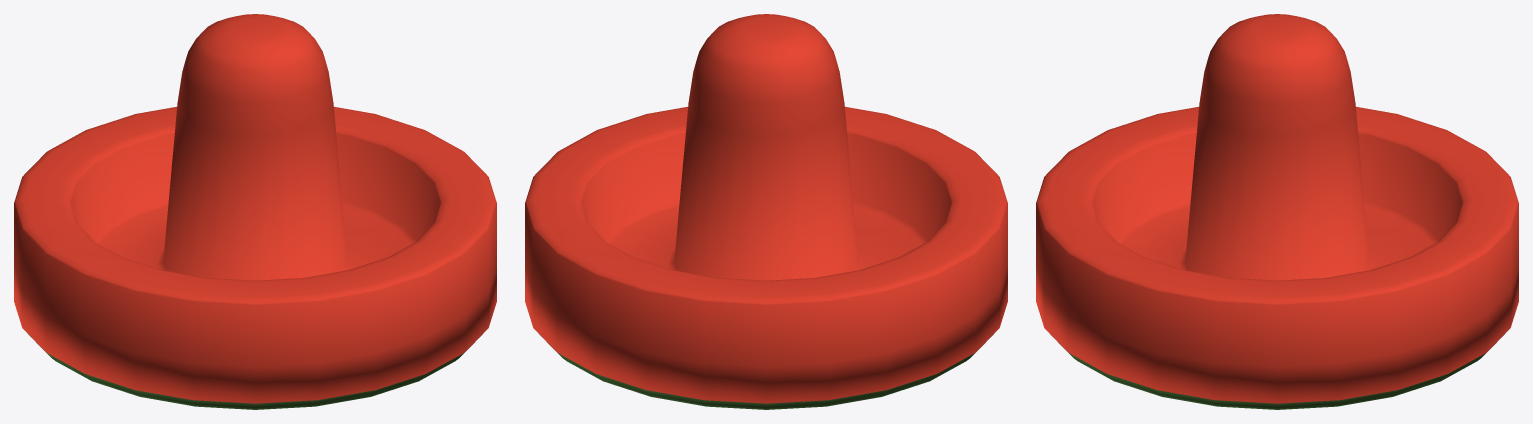
Rendered from Air Hockey Paddle.fbx.
The picture shows the model from 3 angles, left to right: view 1: azimuth 30°, elevation 25°; view 2: azimuth 150°, elevation 25°; view 3: azimuth 270°, elevation 25°; orthographic projection.
Visible parts, largest first — view 1: Cylinder; view 2: Cylinder; view 3: Cylinder.
Part boxes in pixels (x1=…): Cylinder: x1=14, y1=14, x2=496, y2=409; Cylinder: x1=525, y1=14, x2=1007, y2=409; Cylinder: x1=1036, y1=14, x2=1518, y2=409.
Size of the model in its own units: 676 by 445 by 676.
